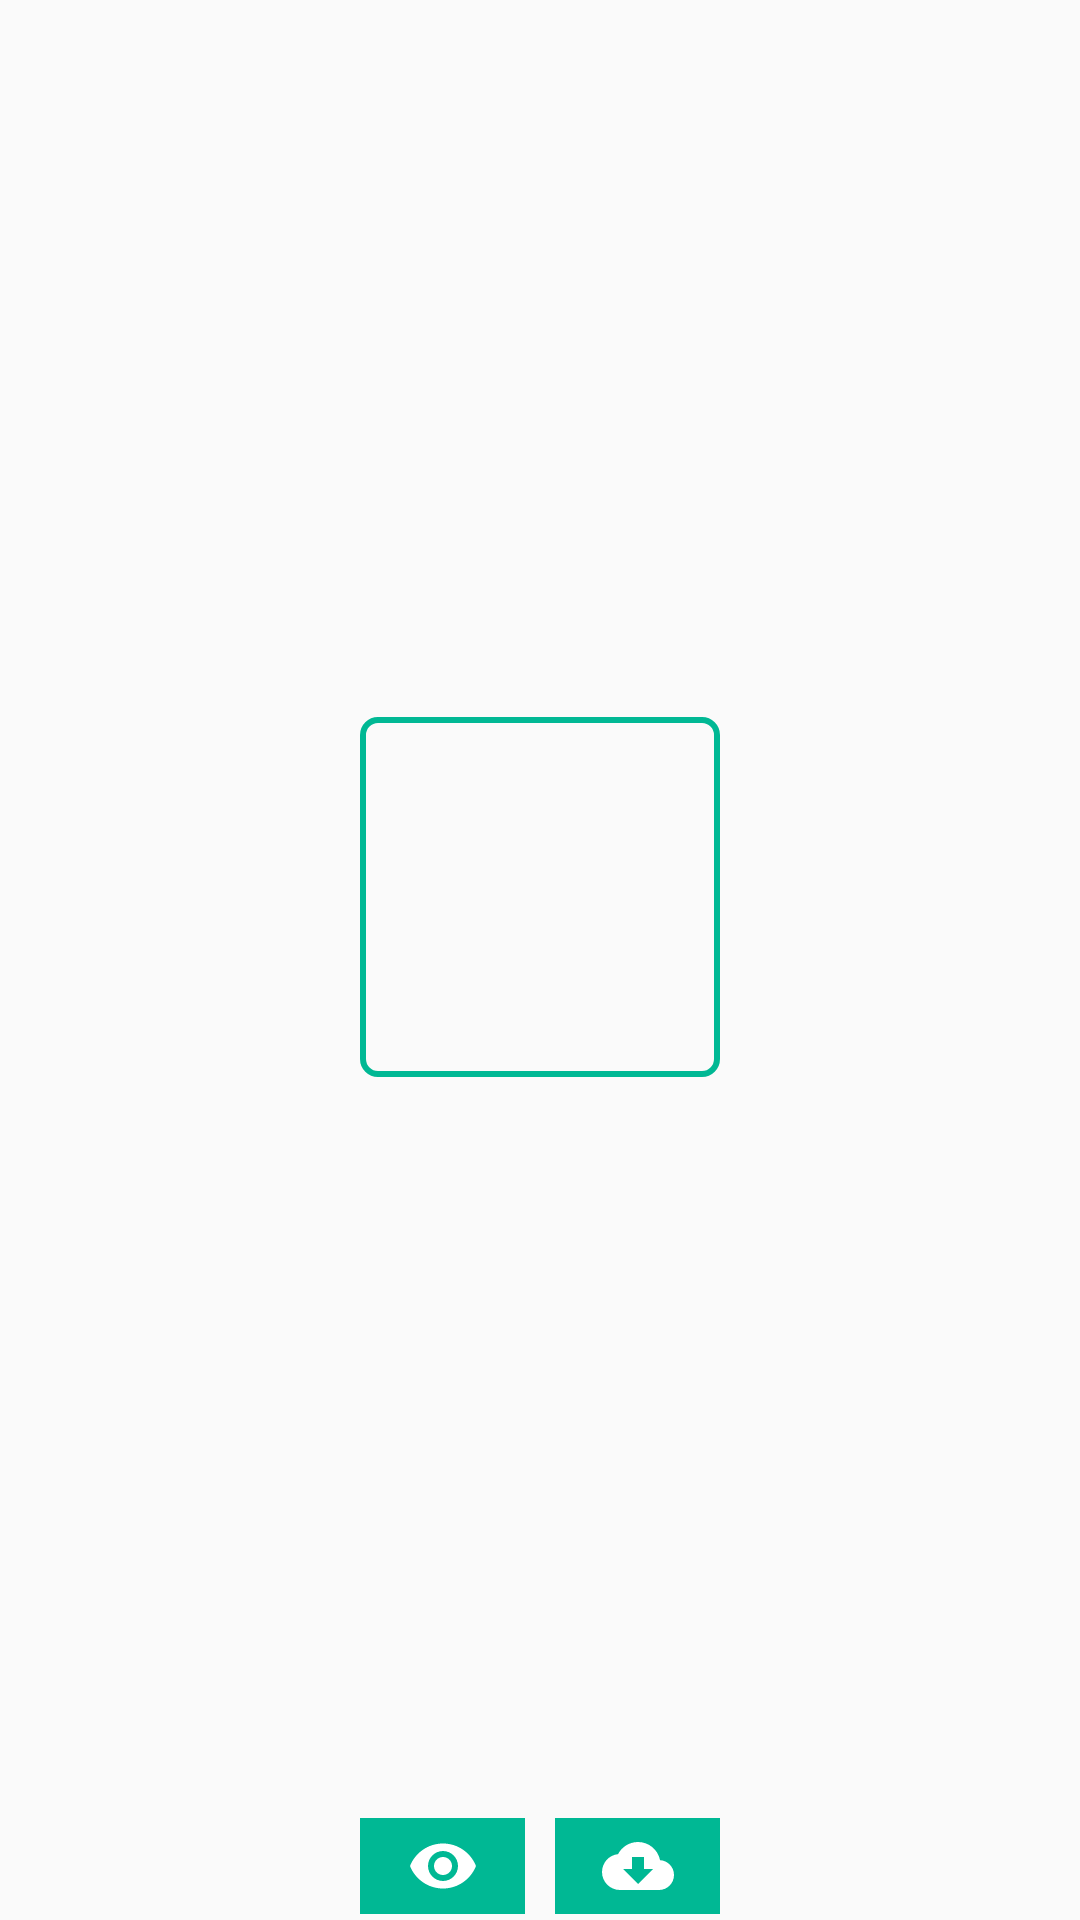

Where to tap for icons on this 1080x1920 app screen, as (x=x, y=y):
download: (x=637, y=1866)
eye: (x=442, y=1866)
